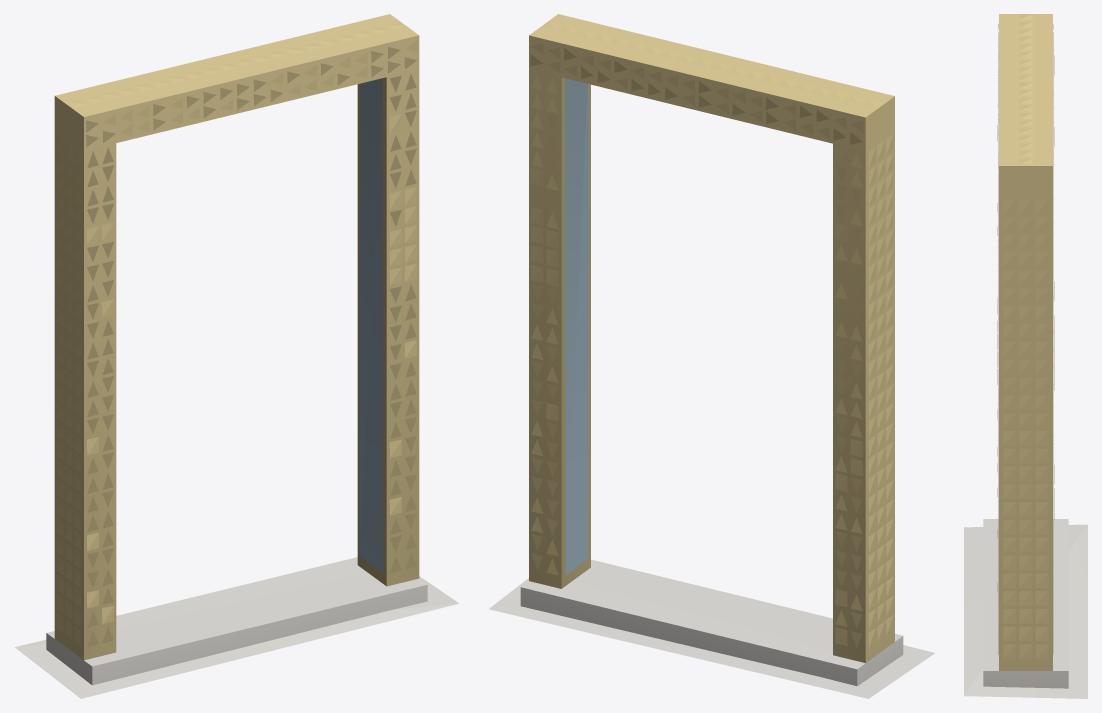
The model's file is dubai_frame_lod1.glb.
3 views of the same model, side by side, from view 1: azimuth 30°, elevation 25°; view 2: azimuth 150°, elevation 25°; view 3: azimuth 270°, elevation 25° (orthographic). The views are drawn at different scales.
Parts seen in each view (by area): view 1: dubai_frame_lod1; view 2: dubai_frame_lod1; view 3: dubai_frame_lod1.
Part boxes in pixels (box(x1,y1,x2,y2)): dubai_frame_lod1: box(14, 14, 458, 698); dubai_frame_lod1: box(489, 14, 934, 698); dubai_frame_lod1: box(964, 14, 1087, 698).
Bounding box in the file's own units: 105 × 150 × 32.
